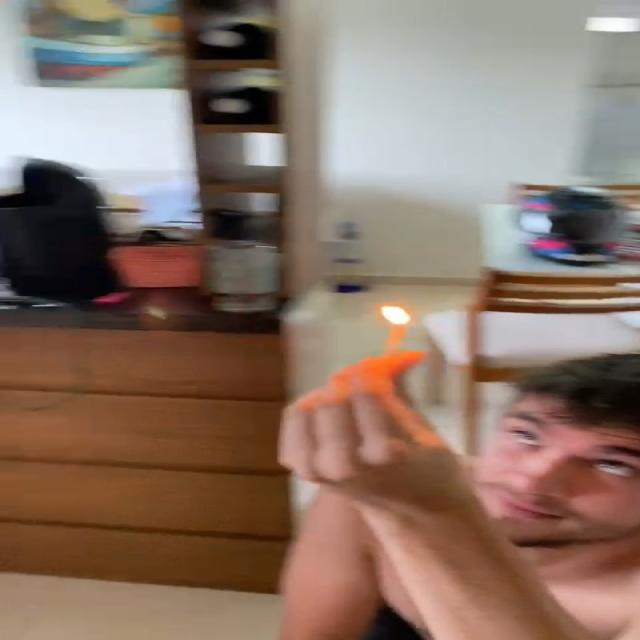fogo-ypXI: (376, 303, 413, 325)
